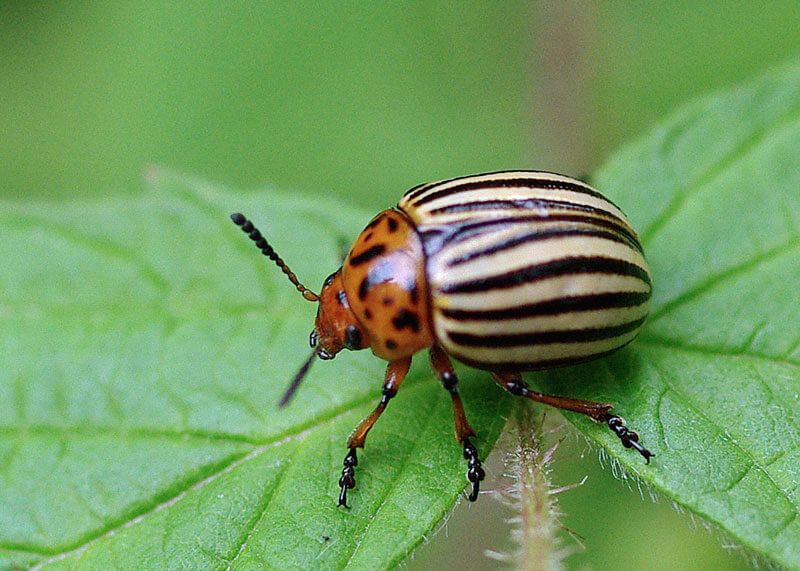Colorado Potato Beetle: (228, 166, 668, 512)
